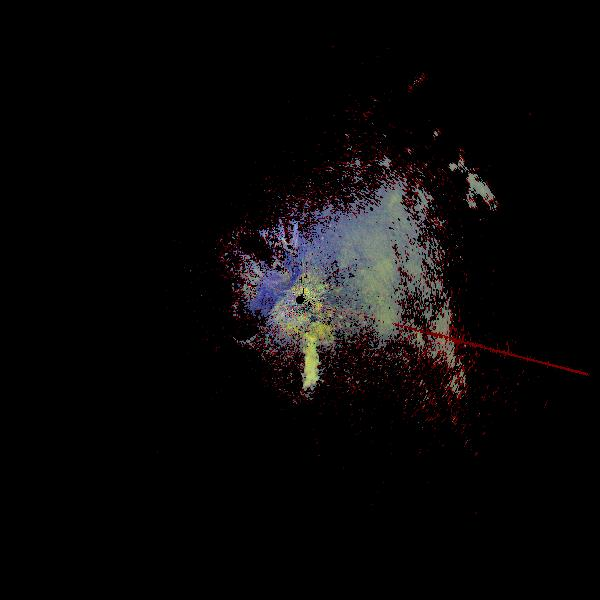roost: (271, 339, 328, 396)
